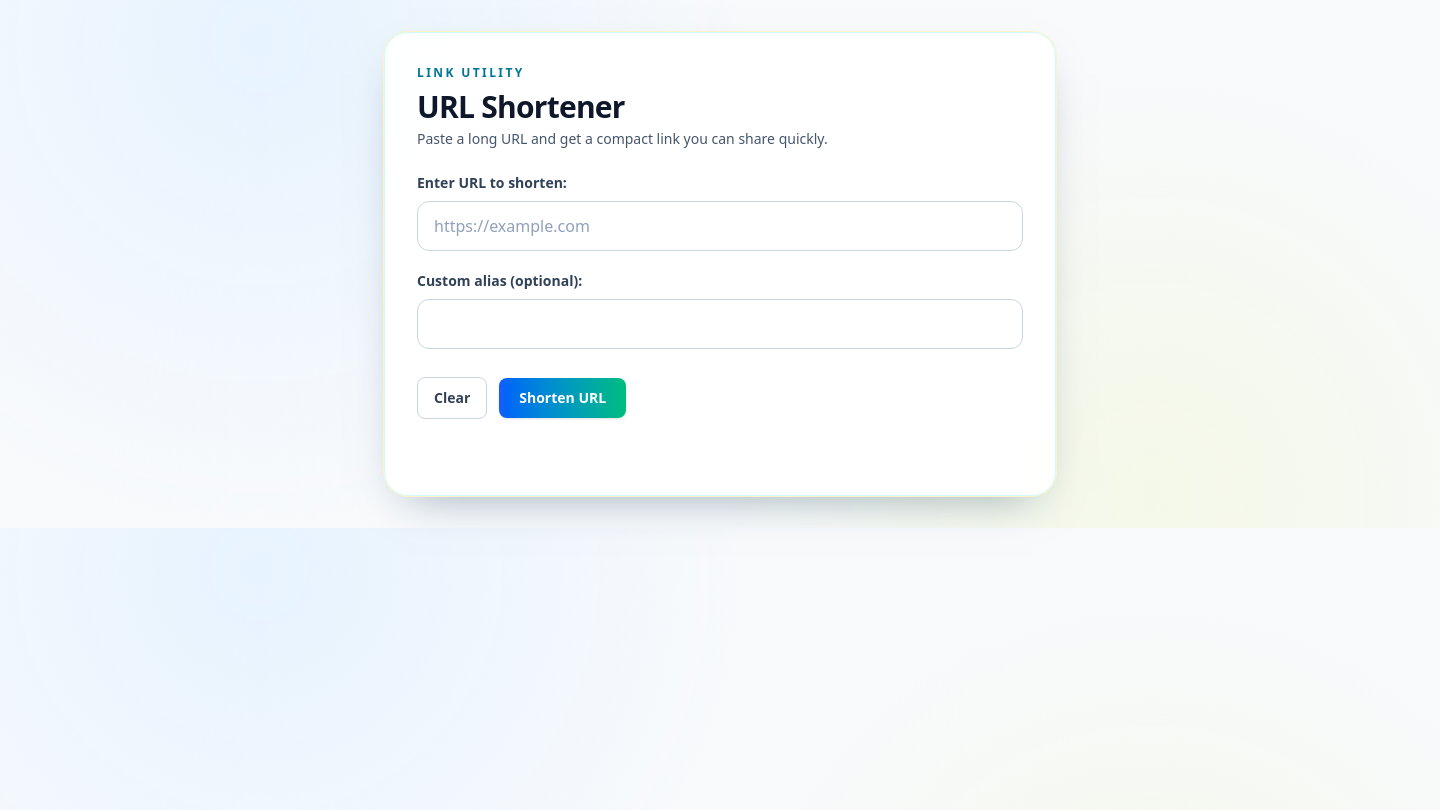
Test case: URLShortner unit › shows validation error when URL is empty
Click the button "Shorten URL": (563, 398) left=499, top=378, right=626, bottom=418
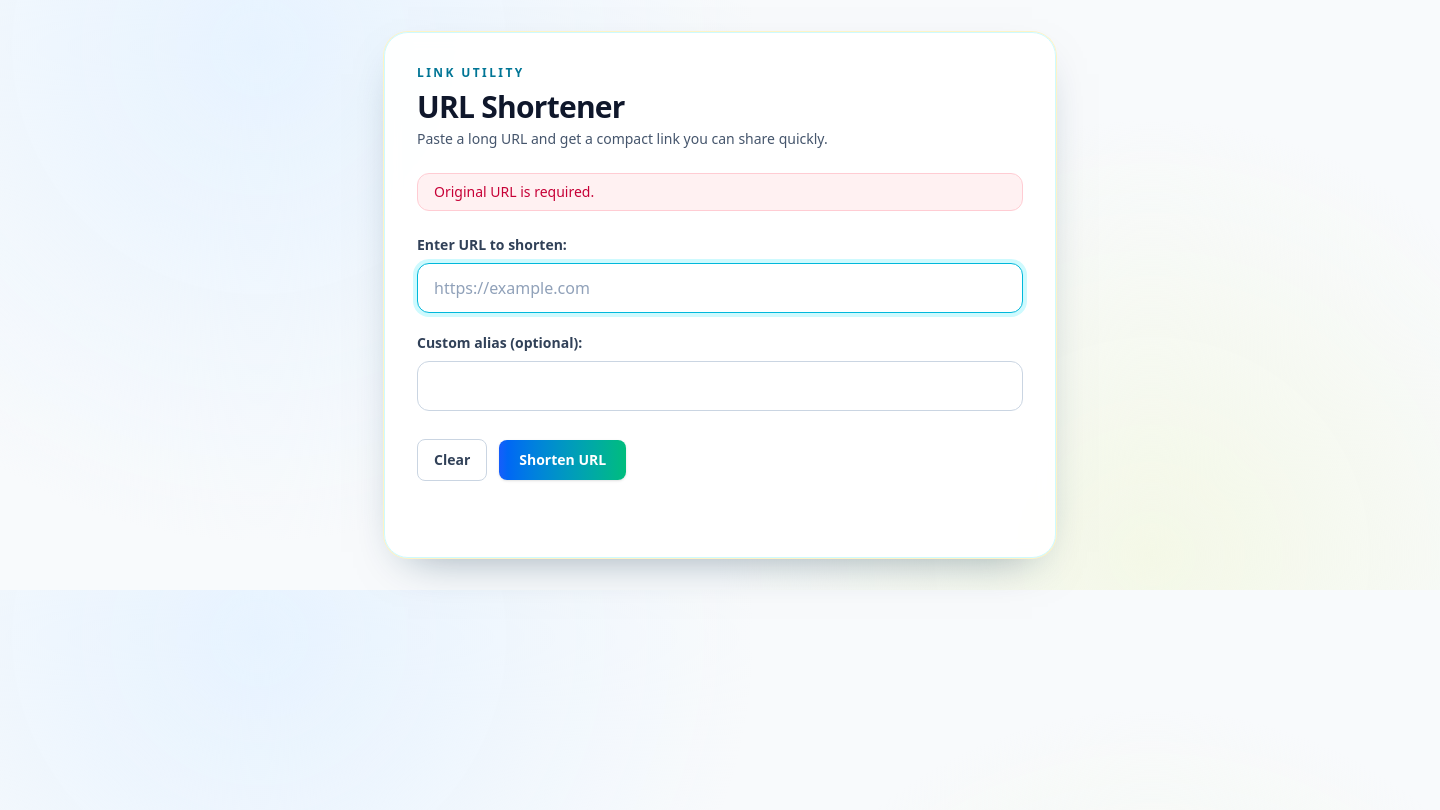
Result: the message reads "Original URL is required." at left=434, top=182, right=594, bottom=201
